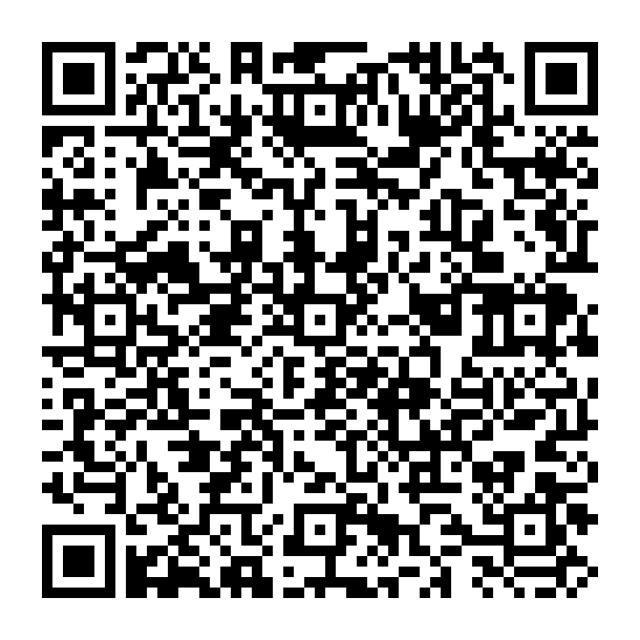QRCode: (1, 23, 635, 635)
